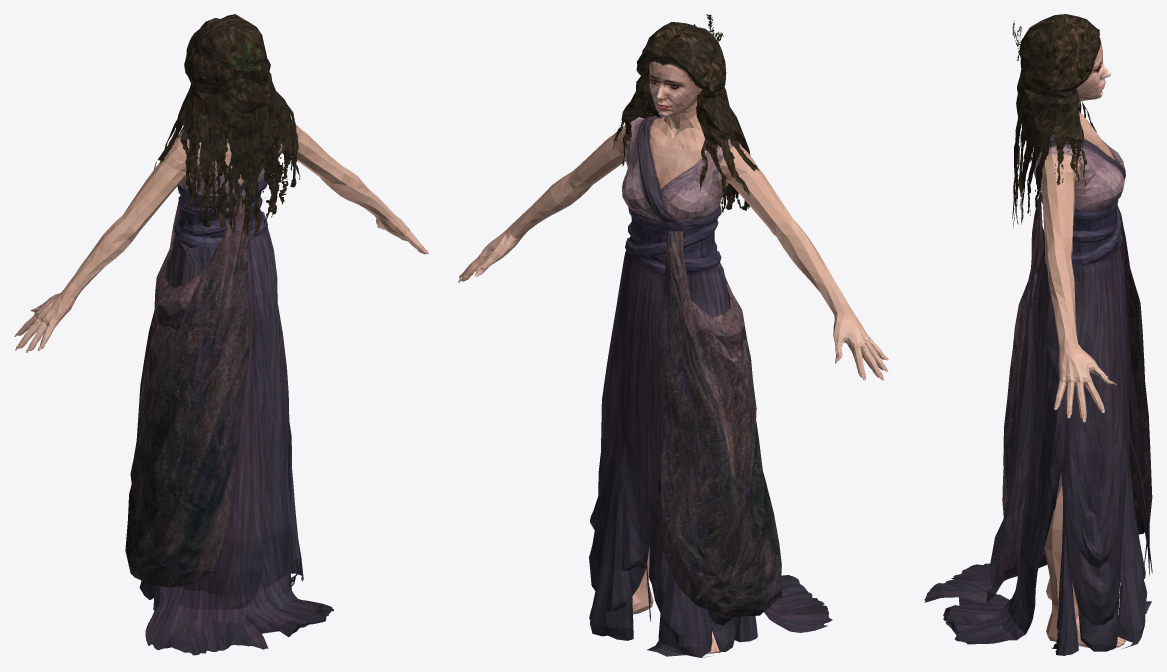
Rendered from lady.dae.
3 renders of one model, left to right at view 1: azimuth 30°, elevation 25°; view 2: azimuth 150°, elevation 25°; view 3: azimuth 270°, elevation 25°, orthographic. The views are drawn at different scales.
Visible parts, largest first — view 1: eva_green_eva_gre_001_eva_green_eva_gre_001_Tex_0575_0_dds_T, eva_green_eva_gre_004_eva_green_eva_gre_004_Tex_0581_0_dds_T, eva_green_eva_gre_005_eva_green_eva_gre_005_Tex_0577_0_dds_T, eva_green_eva_gre_005_eva_green_eva_gre_005_Tex_0641_0_dds_T, eva_green_eva_gre_eva_green_eva_gre_009_Tex_0641_0_dds_Tex_0, eva_green_eva_gre_005_eva_green_eva_gre_005_Tex_0644_0_dds_T; view 2: eva_green_eva_gre_001_eva_green_eva_gre_001_Tex_0575_0_dds_T, eva_green_eva_gre_004_eva_green_eva_gre_004_Tex_0581_0_dds_T, eva_green_eva_gre_005_eva_green_eva_gre_005_Tex_0577_0_dds_T, eva_green_eva_gre_005_eva_green_eva_gre_005_Tex_0644_0_dds_T, eva_green_eva_gre_003_eva_green_eva_gre_003_Tex_0578_0_dds_T, eva_green_eva_gre_005_eva_green_eva_gre_005_Tex_0641_0_dds_T; view 3: eva_green_eva_gre_004_eva_green_eva_gre_004_Tex_0581_0_dds_T, eva_green_eva_gre_001_eva_green_eva_gre_001_Tex_0575_0_dds_T, eva_green_eva_gre_005_eva_green_eva_gre_005_Tex_0577_0_dds_T, eva_green_eva_gre_005_eva_green_eva_gre_005_Tex_0641_0_dds_T, eva_green_eva_gre_005_eva_green_eva_gre_005_Tex_0644_0_dds_T, eva_green_eva_gre_003_eva_green_eva_gre_003_Tex_0578_0_dds_T.
Part boxes in pixels (x1=…): eva_green_eva_gre_001_eva_green_eva_gre_001_Tex_0575_0_dds_T: x1=14, y1=122, x2=429, y2=587; eva_green_eva_gre_004_eva_green_eva_gre_004_Tex_0581_0_dds_T: x1=139, y1=180, x2=333, y2=655; eva_green_eva_gre_005_eva_green_eva_gre_005_Tex_0577_0_dds_T: x1=180, y1=14, x2=292, y2=143; eva_green_eva_gre_005_eva_green_eva_gre_005_Tex_0641_0_dds_T: x1=180, y1=113, x2=300, y2=237; eva_green_eva_gre_eva_green_eva_gre_009_Tex_0641_0_dds_Tex_0: x1=227, y1=130, x2=277, y2=235; eva_green_eva_gre_005_eva_green_eva_gre_005_Tex_0644_0_dds_T: x1=154, y1=43, x2=261, y2=169; eva_green_eva_gre_001_eva_green_eva_gre_001_Tex_0575_0_dds_T: x1=458, y1=100, x2=888, y2=653; eva_green_eva_gre_004_eva_green_eva_gre_004_Tex_0581_0_dds_T: x1=589, y1=205, x2=832, y2=657; eva_green_eva_gre_005_eva_green_eva_gre_005_Tex_0577_0_dds_T: x1=630, y1=22, x2=745, y2=139; eva_green_eva_gre_005_eva_green_eva_gre_005_Tex_0644_0_dds_T: x1=613, y1=14, x2=758, y2=195; eva_green_eva_gre_003_eva_green_eva_gre_003_Tex_0578_0_dds_T: x1=649, y1=57, x2=701, y2=117; eva_green_eva_gre_005_eva_green_eva_gre_005_Tex_0641_0_dds_T: x1=638, y1=109, x2=750, y2=212; eva_green_eva_gre_004_eva_green_eva_gre_004_Tex_0581_0_dds_T: x1=924, y1=194, x2=1152, y2=655; eva_green_eva_gre_001_eva_green_eva_gre_001_Tex_0575_0_dds_T: x1=1002, y1=100, x2=1152, y2=649; eva_green_eva_gre_005_eva_green_eva_gre_005_Tex_0577_0_dds_T: x1=1016, y1=14, x2=1100, y2=152; eva_green_eva_gre_005_eva_green_eva_gre_005_Tex_0641_0_dds_T: x1=1012, y1=117, x2=1048, y2=226; eva_green_eva_gre_005_eva_green_eva_gre_005_Tex_0644_0_dds_T: x1=1012, y1=21, x2=1096, y2=189; eva_green_eva_gre_003_eva_green_eva_gre_003_Tex_0578_0_dds_T: x1=1076, y1=41, x2=1110, y2=100.
Bounding box in the file's own units: 0.1253 × 0.0597 × 0.1681.
Materials: 7 (7 with a texture image).
